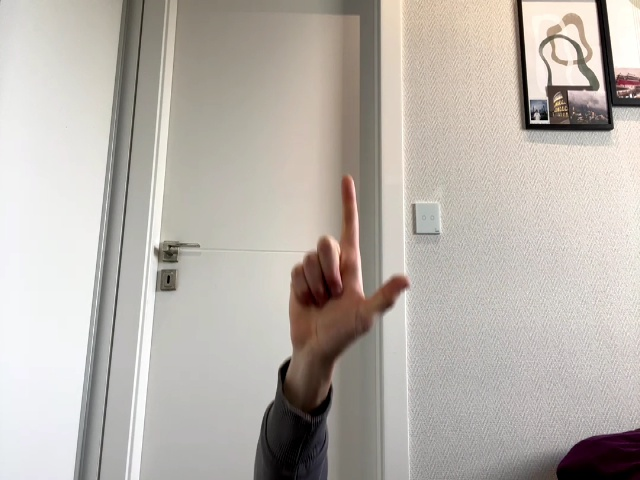L: (289, 176, 411, 367)
